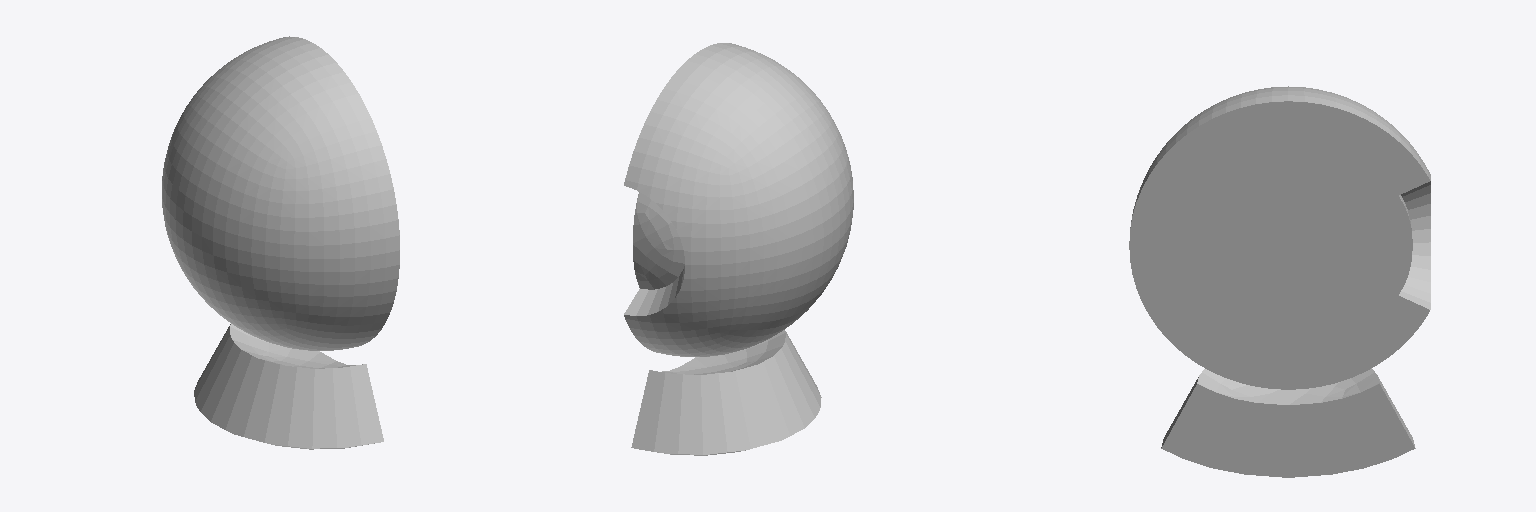
Rendered from HalfModel2.obj.
3 views of the same model, side by side, from view 1: azimuth 30°, elevation 25°; view 2: azimuth 150°, elevation 25°; view 3: azimuth 270°, elevation 25° (orthographic).
Visible parts, largest first — view 1: Cube; view 2: Cube; view 3: Cube.
Boxes of the visible parts, box(x1,y1,x2,y2) form: Cube: box(162, 36, 399, 449); Cube: box(624, 43, 853, 455); Cube: box(1129, 86, 1430, 477).
Bounding box in the file's own units: 0.8563 × 2.24 × 1.62.